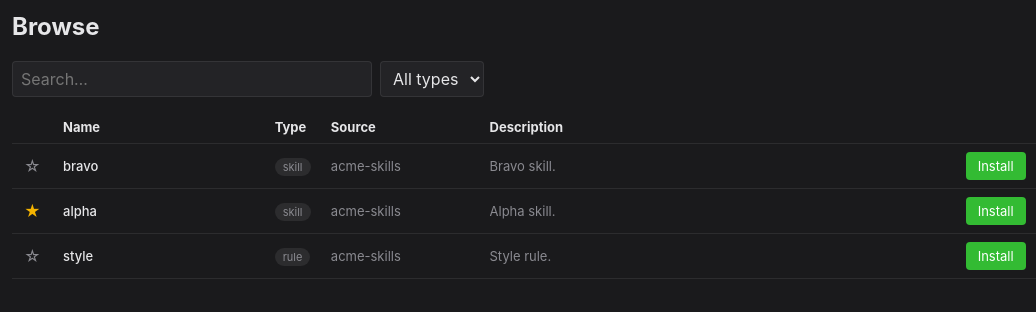
Browse — sorting › switching to a different sortable column resets direction to ascending
Check: the link "alpha" is shown, box x1=63 y1=203 x2=97 y2=219
Click the button "Name": (82, 127) x1=63 y1=119 x2=100 y2=135
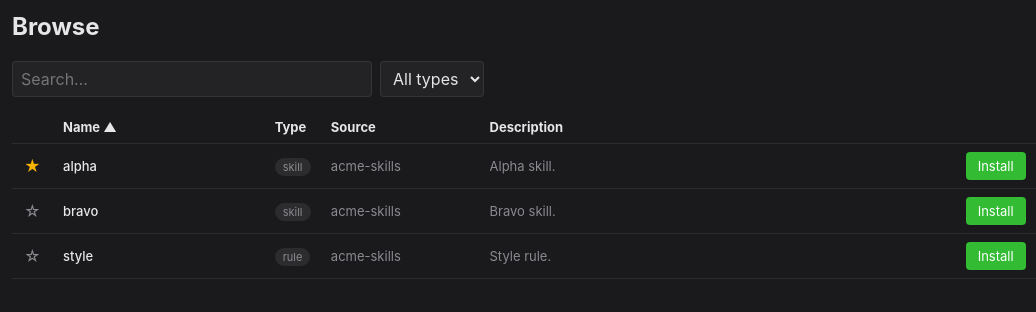
Click the button "Name ▲": (90, 127) x1=63 y1=119 x2=117 y2=135
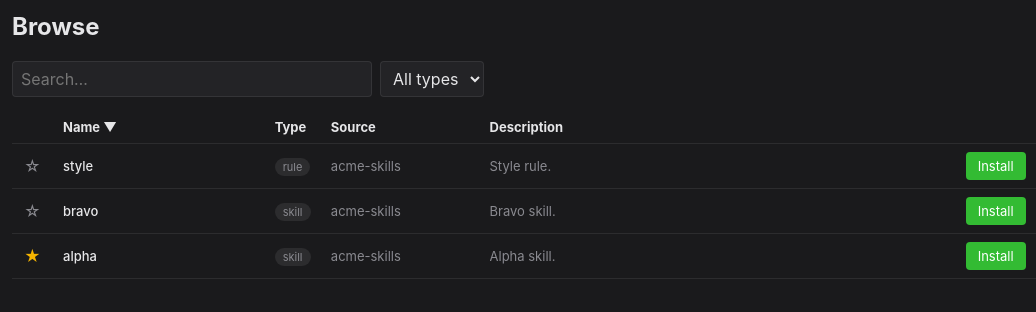
Click the button "Type": (290, 127) x1=275 y1=119 x2=306 y2=135
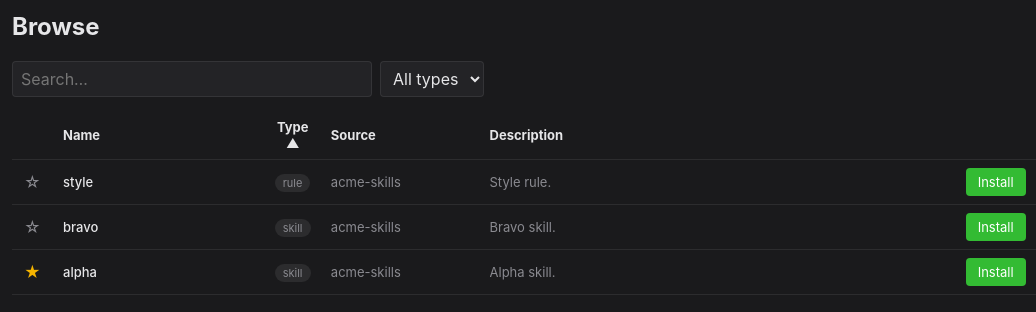
Check: the button "Type ▲" is shown, box x1=275 y1=119 x2=311 y2=151
